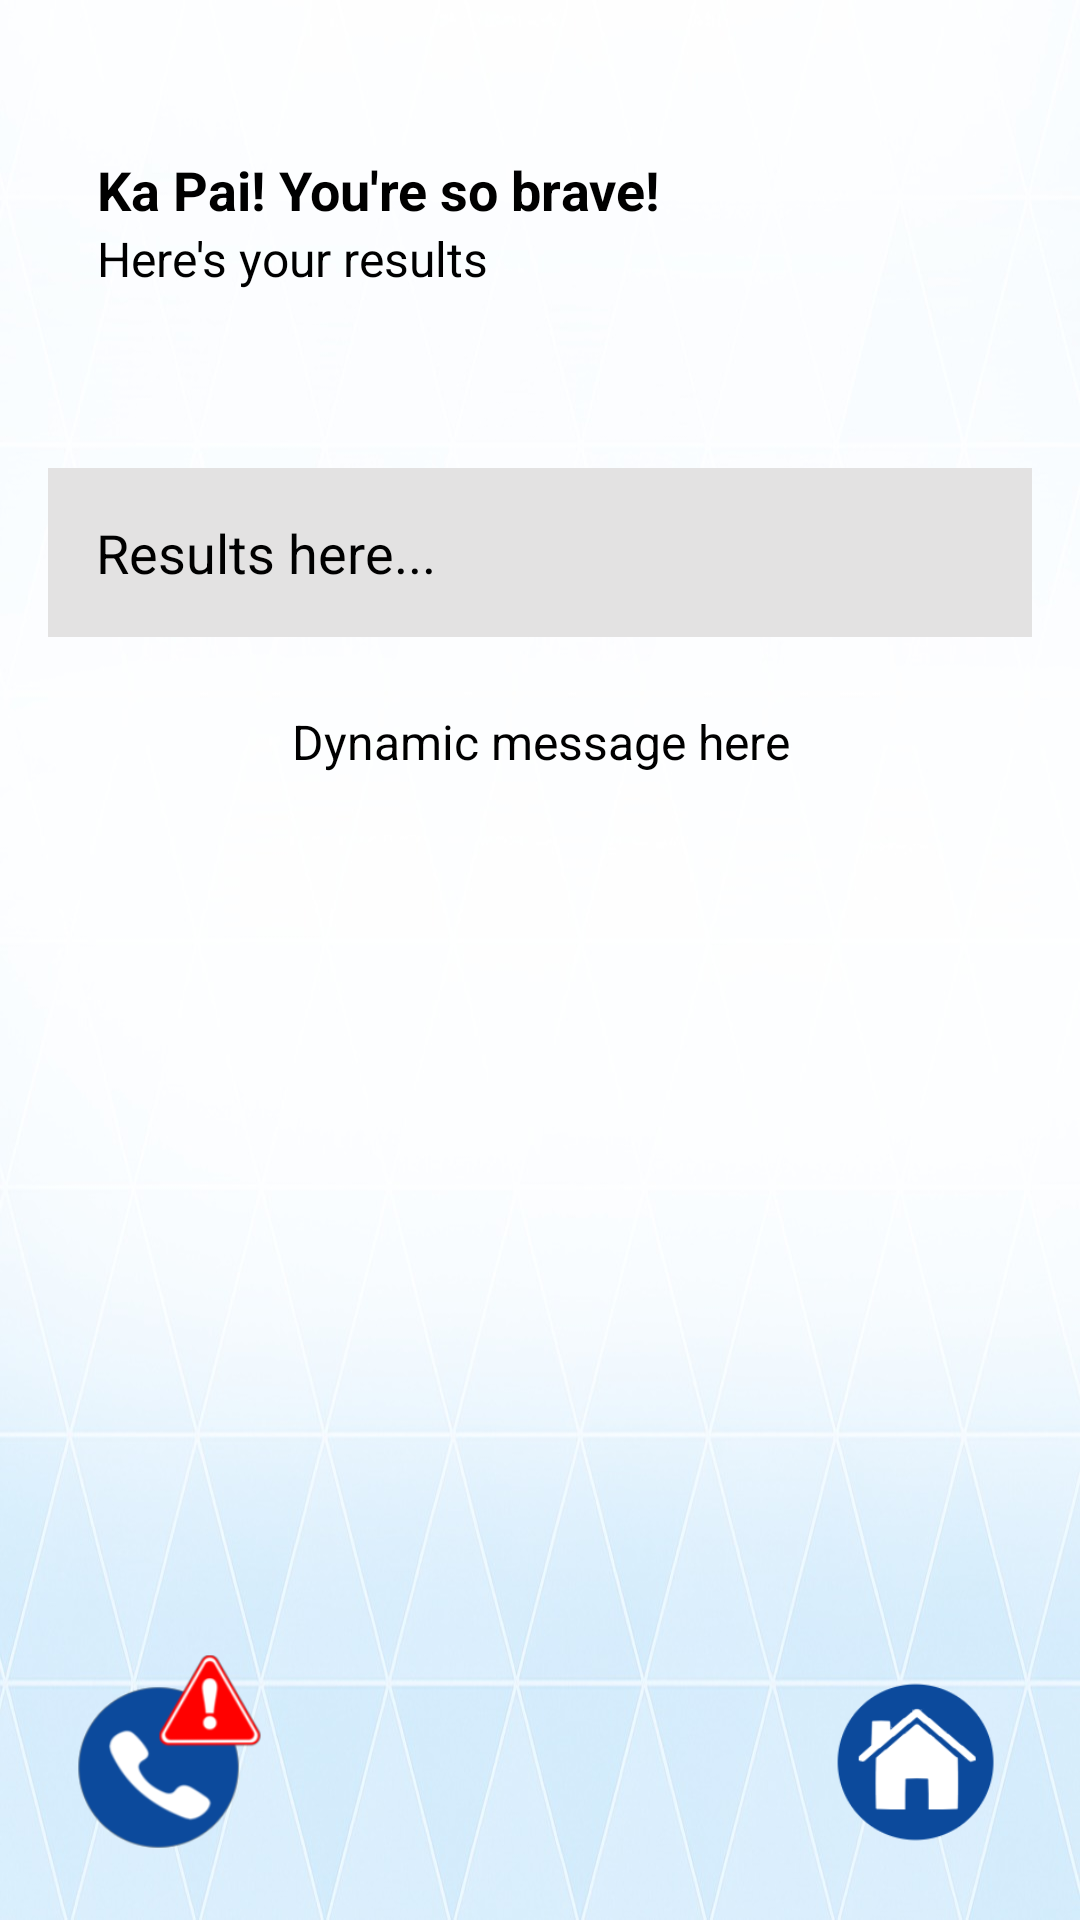

Where to tap for icons on this 1080×1920 app screen, as [x,y]:
emergencybutton: [172,1750]
home: [915,1768]
